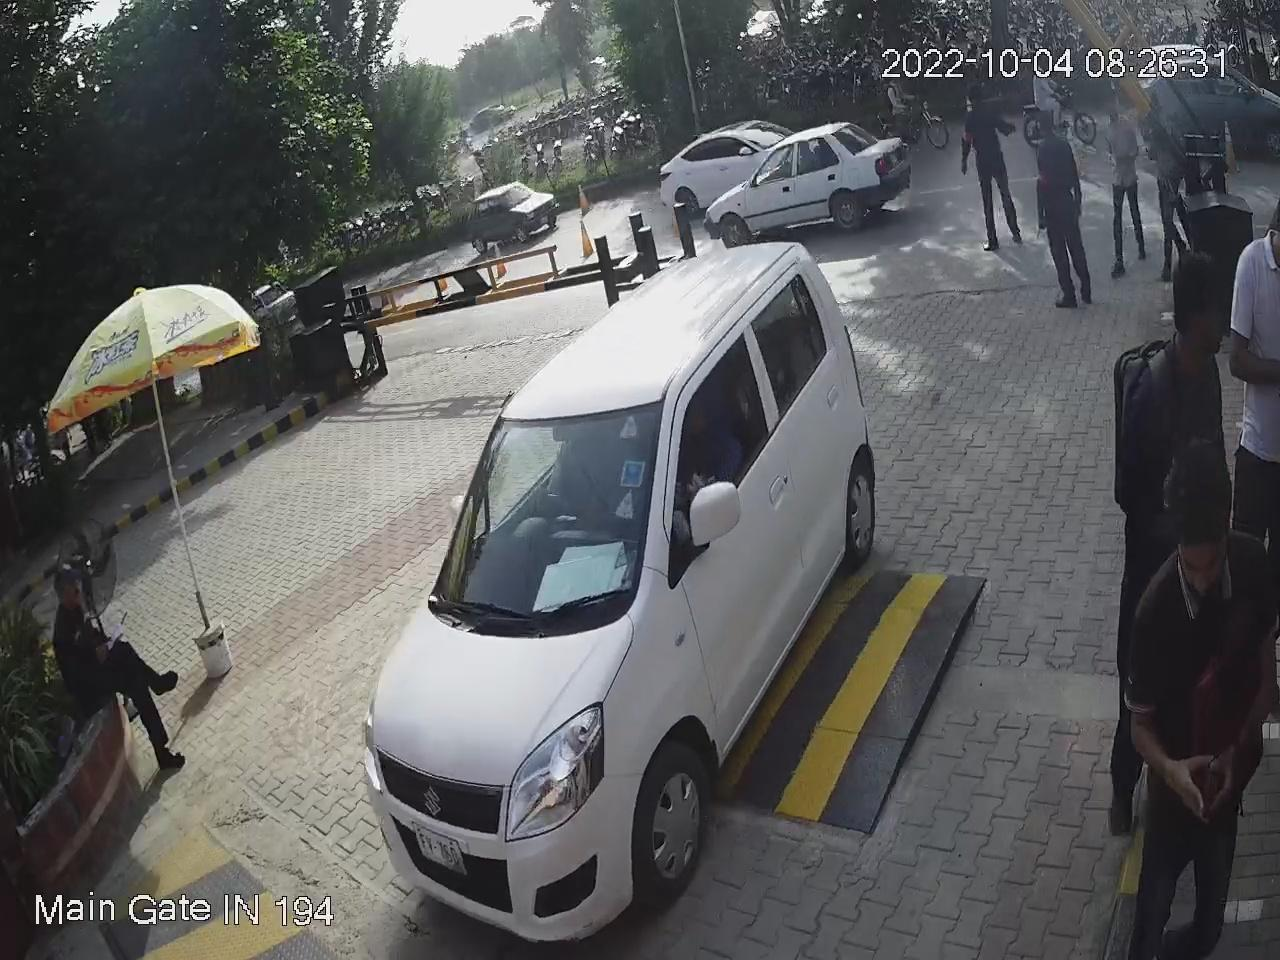windshield: (430, 397, 663, 625)
